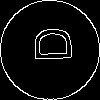D: (25, 25, 72, 64)
